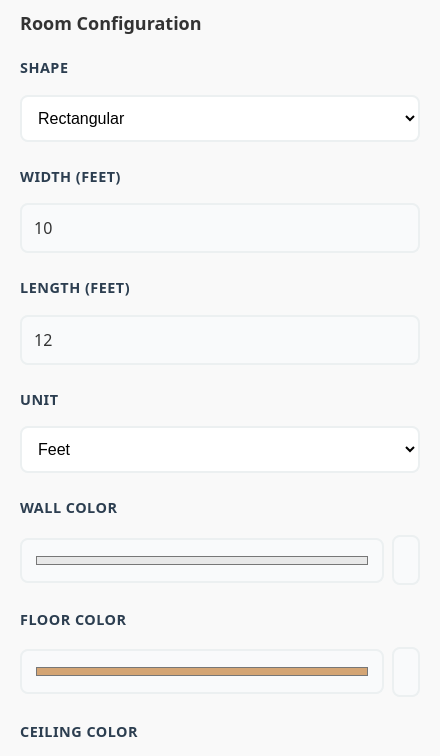
Test case: RoomConfigPanel › Dimension validation › displays error for invalid length
The width and height of the screenshot is (443, 756).
Note: Enter invalid length
Replace the text in the number field labelled "Length (feet)" with "-5" at (220, 340), box top-left (20, 315), bottom-right (420, 365)
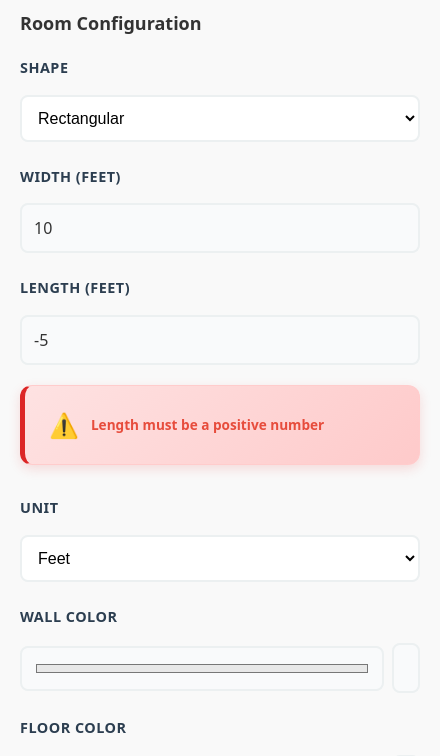
Check: the message shows "must be a positive number", box top-left (91, 415), bottom-right (324, 434)
